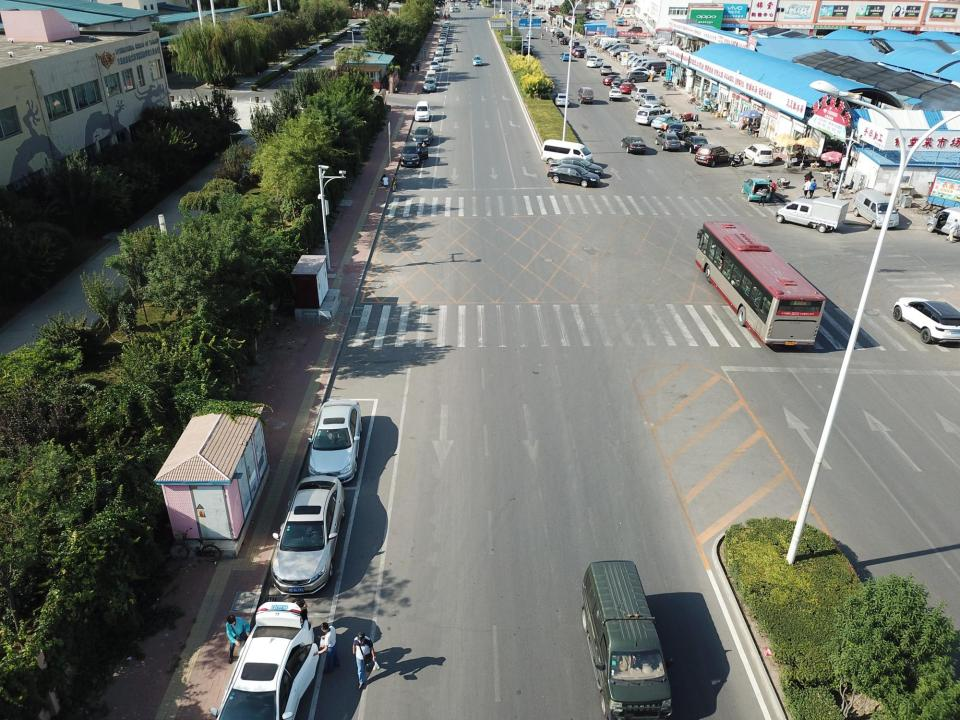bus: (695, 222, 826, 347)
car: (209, 600, 320, 720), (268, 474, 346, 597), (307, 399, 362, 483), (893, 297, 960, 348), (547, 163, 600, 187), (550, 156, 603, 178), (694, 144, 731, 166), (399, 140, 429, 167), (740, 178, 772, 202), (742, 144, 774, 166), (654, 132, 682, 151), (651, 113, 681, 130), (683, 135, 709, 154), (637, 92, 664, 110), (621, 135, 646, 154), (411, 126, 434, 146), (666, 122, 690, 140), (626, 66, 656, 80), (637, 102, 667, 115), (626, 70, 654, 83), (414, 101, 430, 122), (602, 74, 624, 86), (618, 82, 636, 95), (608, 87, 623, 102), (422, 76, 436, 92), (553, 93, 570, 106), (610, 78, 630, 89), (586, 58, 604, 68), (599, 64, 613, 76), (609, 47, 630, 55), (611, 49, 631, 57), (573, 49, 590, 58), (613, 50, 631, 58), (603, 44, 621, 52), (570, 48, 588, 55), (472, 55, 483, 66), (559, 52, 571, 62), (624, 36, 639, 44), (586, 54, 597, 64), (522, 46, 533, 56), (429, 60, 440, 70), (560, 36, 572, 44), (589, 12, 602, 19), (433, 54, 443, 63), (434, 47, 444, 56), (436, 43, 446, 52), (569, 41, 580, 49), (438, 36, 447, 45), (620, 13, 635, 18), (568, 39, 577, 47), (591, 14, 603, 20), (526, 31, 534, 39), (520, 40, 529, 47), (441, 26, 449, 33), (595, 7, 606, 12), (555, 31, 564, 37), (550, 27, 558, 33), (553, 28, 561, 34)
truck: (625, 54, 649, 65), (617, 51, 640, 62), (651, 42, 672, 52), (614, 17, 624, 26), (440, 30, 449, 39), (442, 21, 451, 29)
van: (580, 558, 674, 720), (775, 196, 850, 233), (852, 189, 900, 230), (541, 138, 594, 168), (925, 206, 960, 240), (635, 108, 668, 125), (657, 45, 681, 59), (642, 61, 667, 74), (631, 57, 657, 69), (577, 87, 594, 104), (630, 86, 648, 102), (606, 43, 630, 55), (627, 55, 649, 68), (636, 60, 659, 72), (599, 37, 622, 49), (424, 70, 437, 85), (601, 40, 618, 50), (593, 37, 611, 46), (653, 41, 671, 49), (583, 49, 596, 60), (626, 26, 643, 34), (352, 25, 362, 35)
